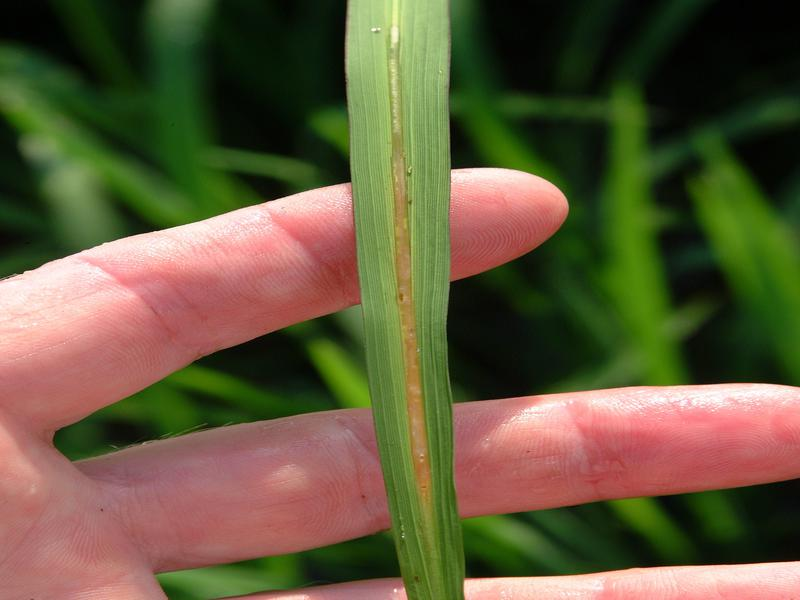Paddy_stemborer: (324, 41, 486, 522)
